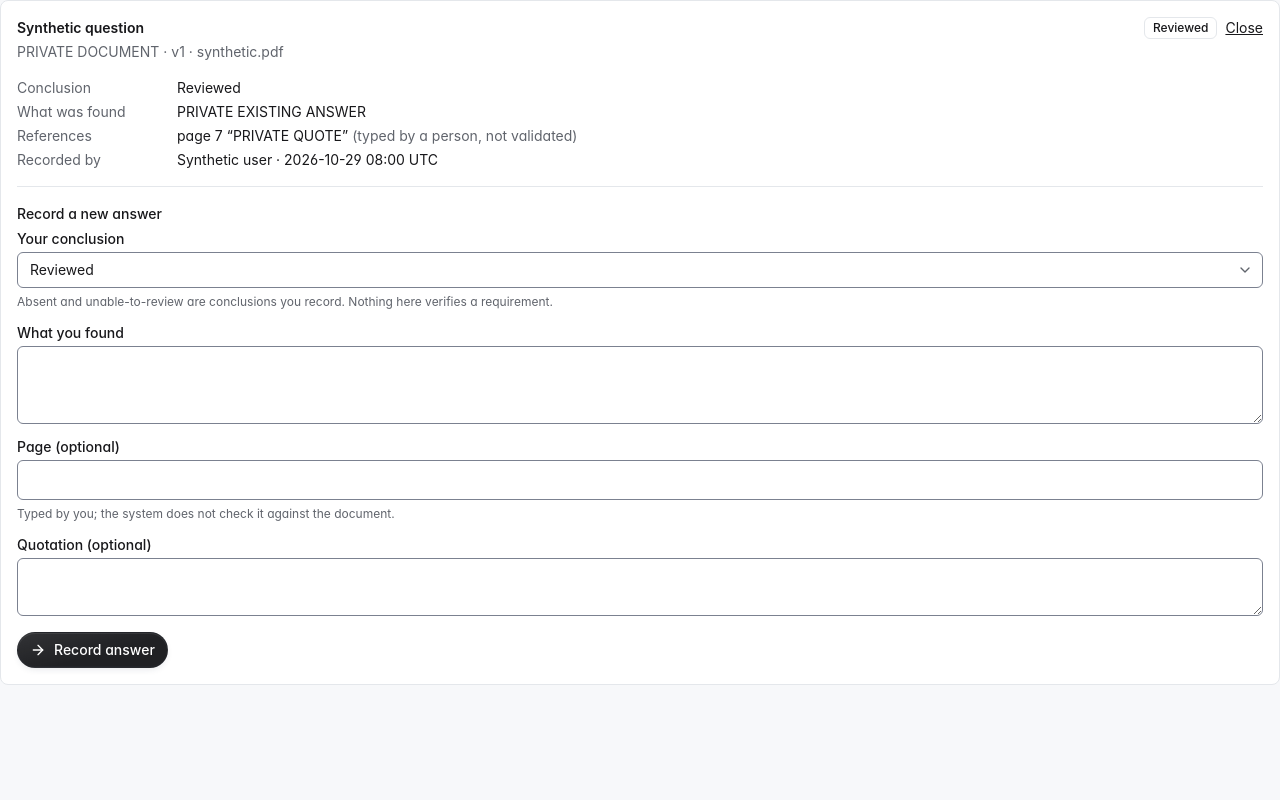
an UNKNOWN outcome keeps the loaded content for safe recovery
The image size is (1280, 800).
Click the button "Record answer".
click(92, 650)  # box [17,632,168,668]
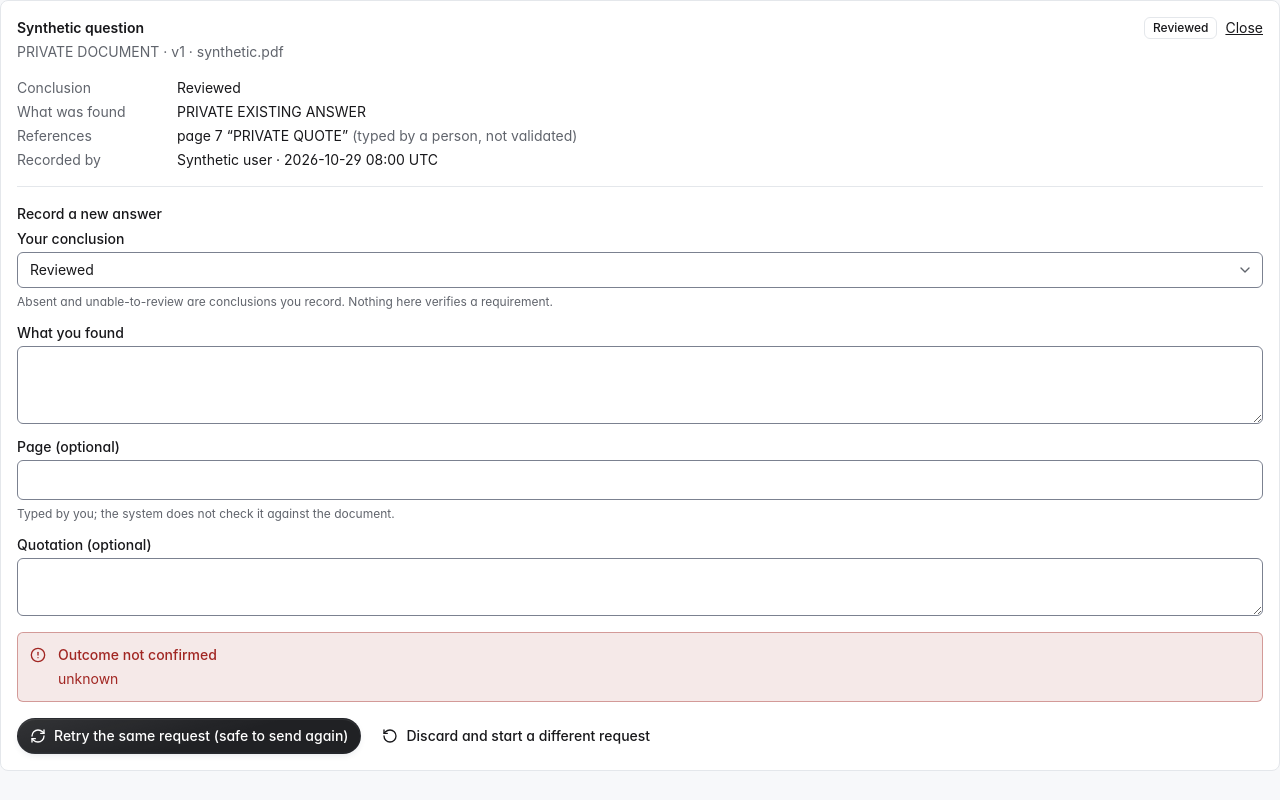
Expected: the text "PRIVATE EXISTING ANSWER" is shown, [177,103,366,120]
Expected: the text "Outcome not confirmed" is shown, [58,645,217,665]
Expected: the button "Retry the same request (safe to send again)" is shown, [17,718,362,754]
